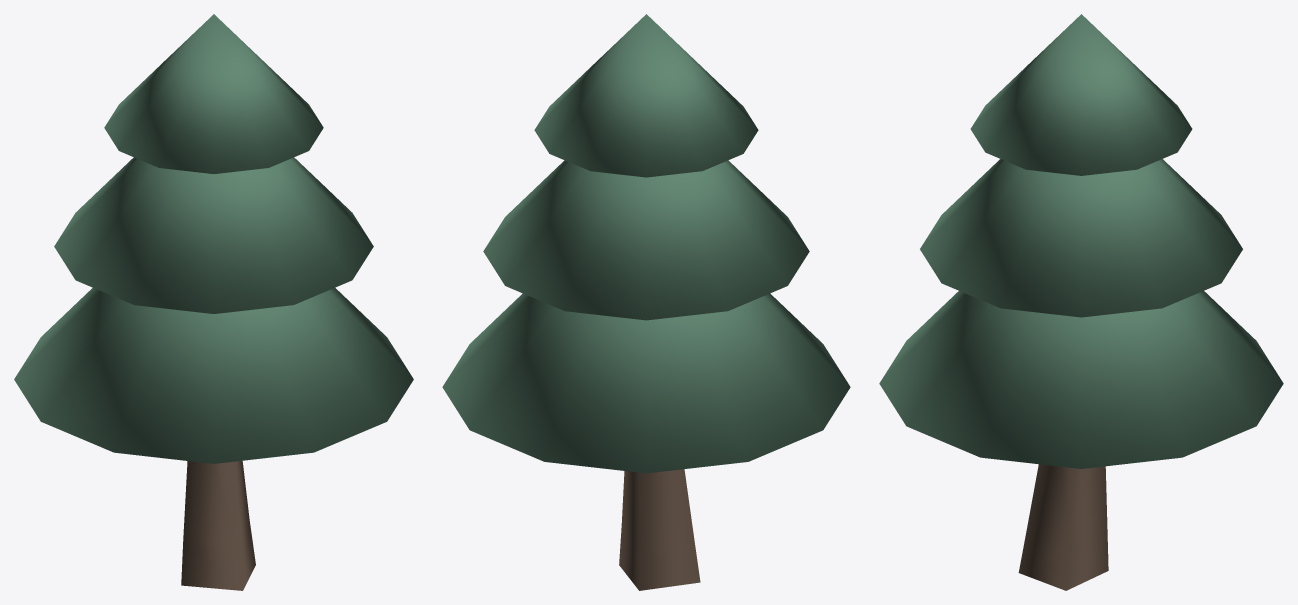
The model's file is TreeD.fbx.
The picture shows the model from 3 angles, left to right: view 1: azimuth 30°, elevation 25°; view 2: azimuth 150°, elevation 25°; view 3: azimuth 270°, elevation 25°; orthographic projection. The views are drawn at different scales.
Visible parts, largest first — view 1: TreeD; view 2: TreeD; view 3: TreeD.
Boxes of the visible parts, x1,y1,x2,y2 form: TreeD: [14, 14, 413, 590]; TreeD: [442, 14, 850, 590]; TreeD: [879, 14, 1283, 590].
Bounding box in the file's own units: 145 × 221 × 145.
